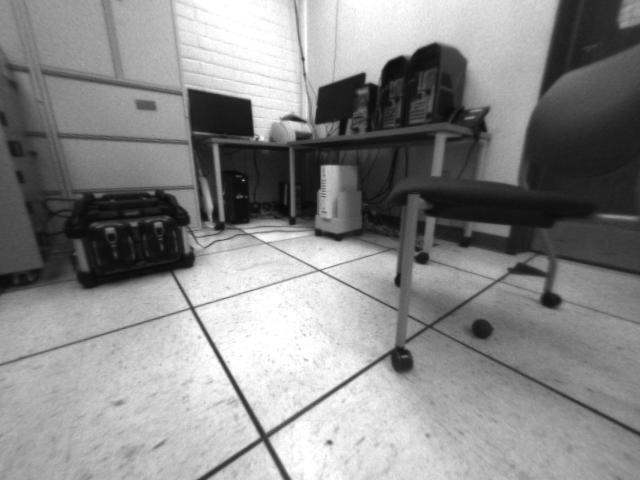dogtoy: (467, 312, 497, 342)
